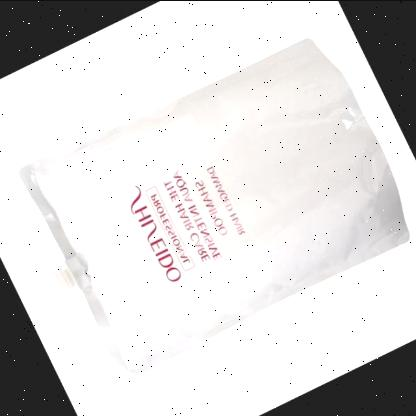Others: (18, 36, 410, 376)
